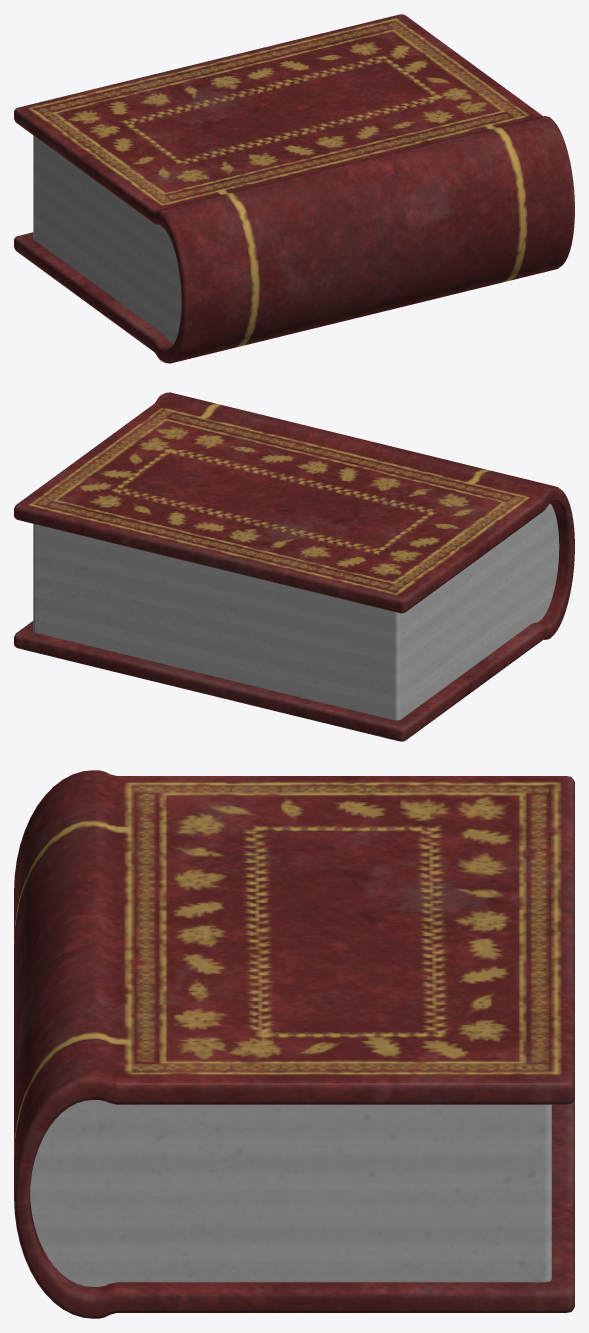
File: SM_BookB.fbx
The picture shows the model from 3 angles, top to bottom: view 1: azimuth 30°, elevation 25°; view 2: azimuth 150°, elevation 25°; view 3: azimuth 270°, elevation 25°; orthographic projection. The views are drawn at different scales.
Parts seen in each view (by area): view 1: SM_BookB_LOD0; view 2: SM_BookB_LOD0; view 3: SM_BookB_LOD0.
Boxes of the visible parts, <box> form: SM_BookB_LOD0: <box>14,14,574,363</box>; SM_BookB_LOD0: <box>14,392,574,741</box>; SM_BookB_LOD0: <box>14,770,574,1318</box>.
Bounding box in the file's own units: 32 × 24.47 × 11.71.
Materials: 1 (1 with a texture image).
